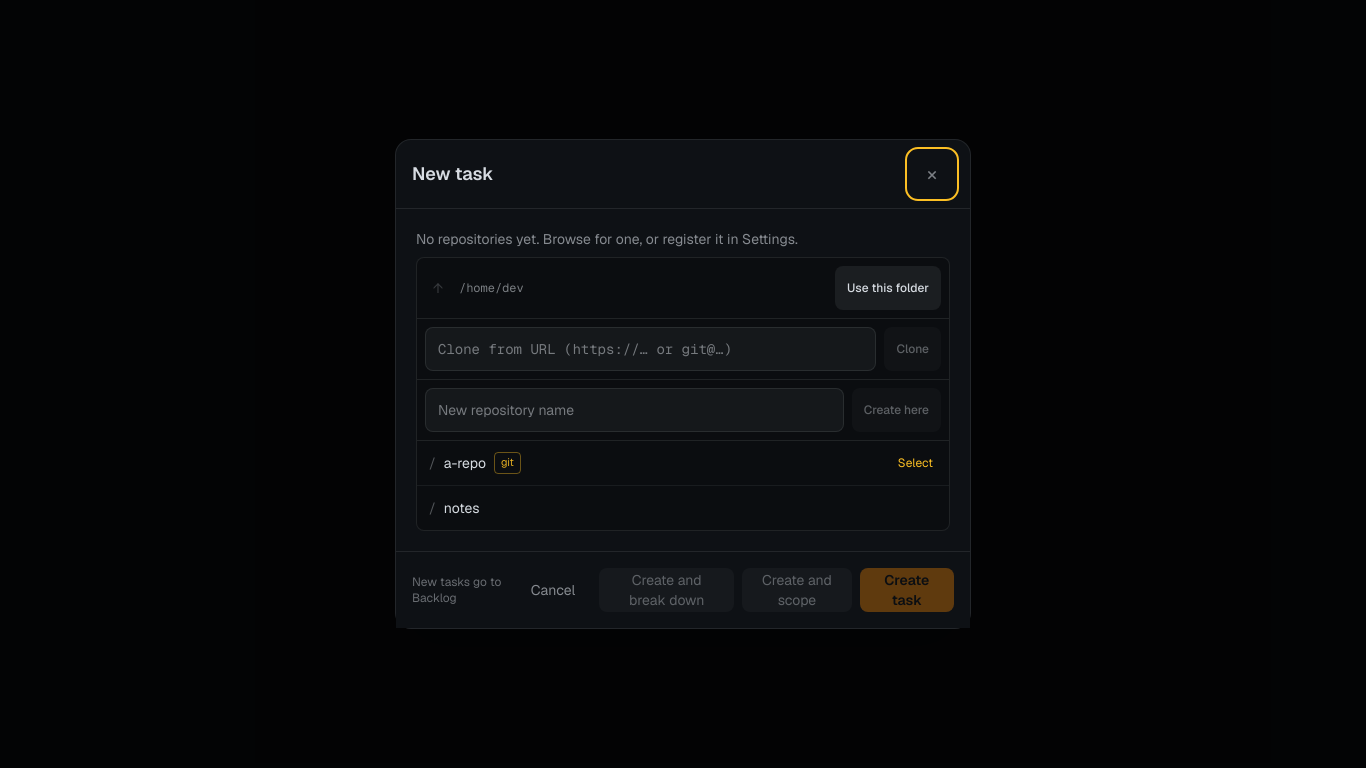
NewTaskDialog › clones a repository from a URL and selects it
Check: the list named "Folders" is shown, box 417,441 -> 949,530
Type "https://example.com/acme/repo.git" into the field named "Repository URL". click: (651, 349)
box: 425,327 -> 876,371
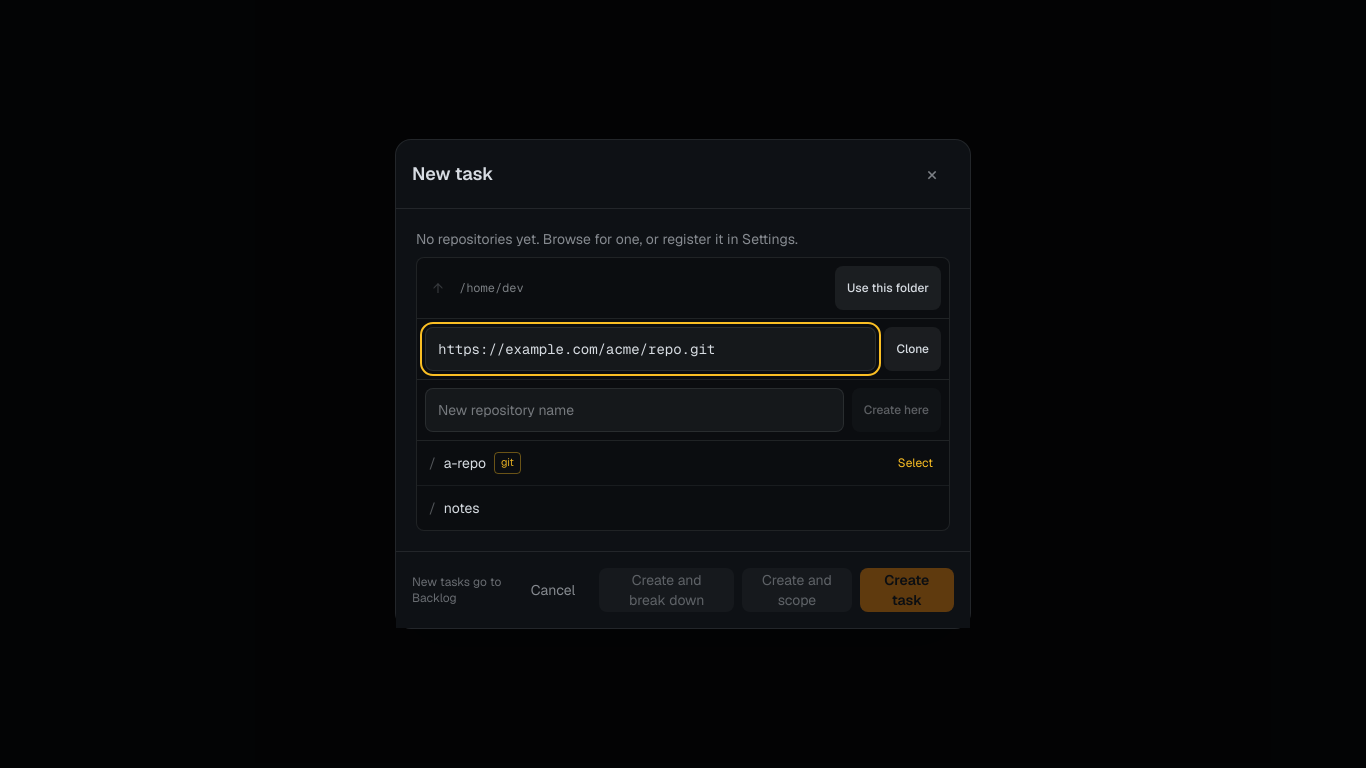
Click the button "Clone". click: (913, 349)
box: 884,327 -> 941,371
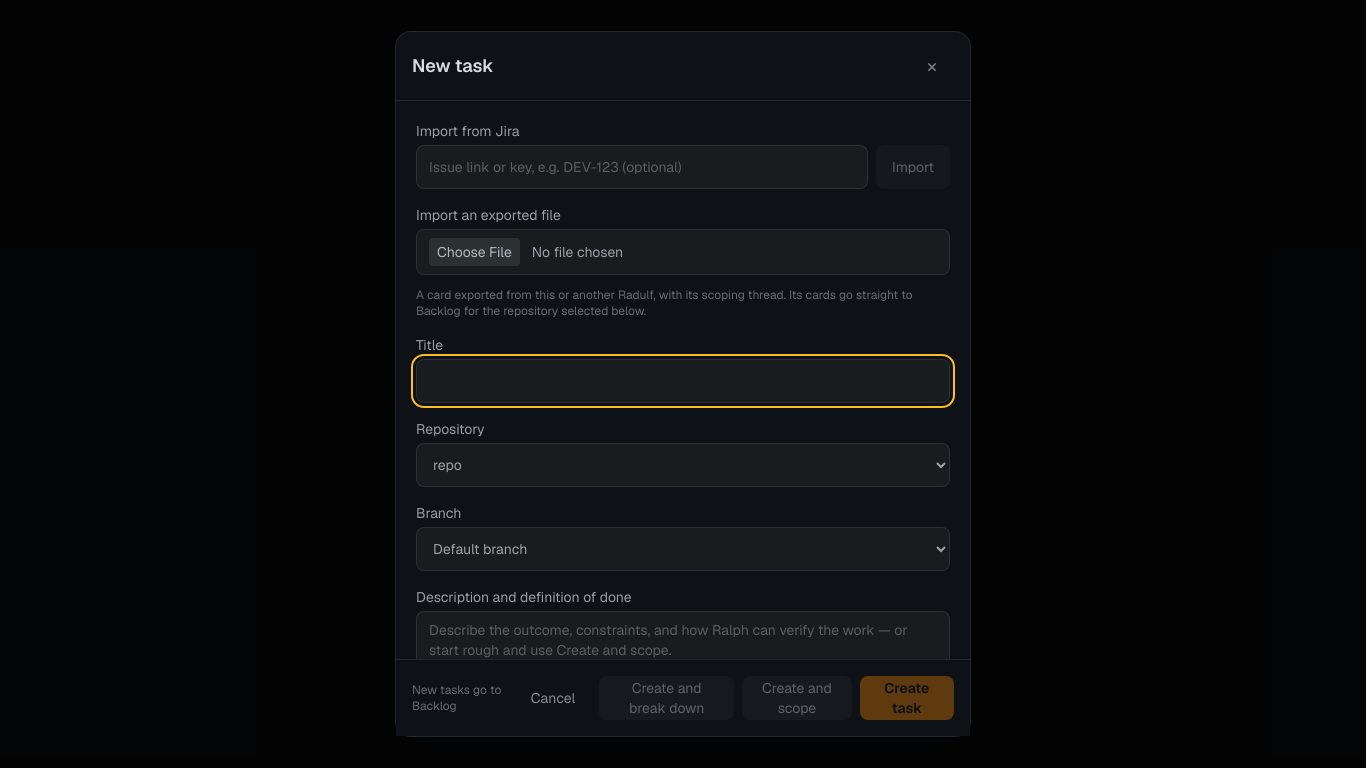
Check: the dropdown labelled "Repository" shows "repo", box 416,443 -> 950,487
